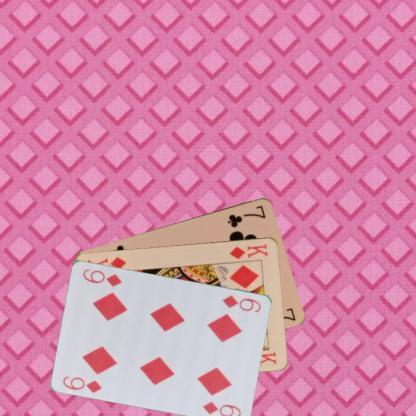6d: (220, 292, 262, 314), (60, 373, 104, 394)
7c: (225, 202, 267, 229)
Kd: (227, 241, 269, 261)
